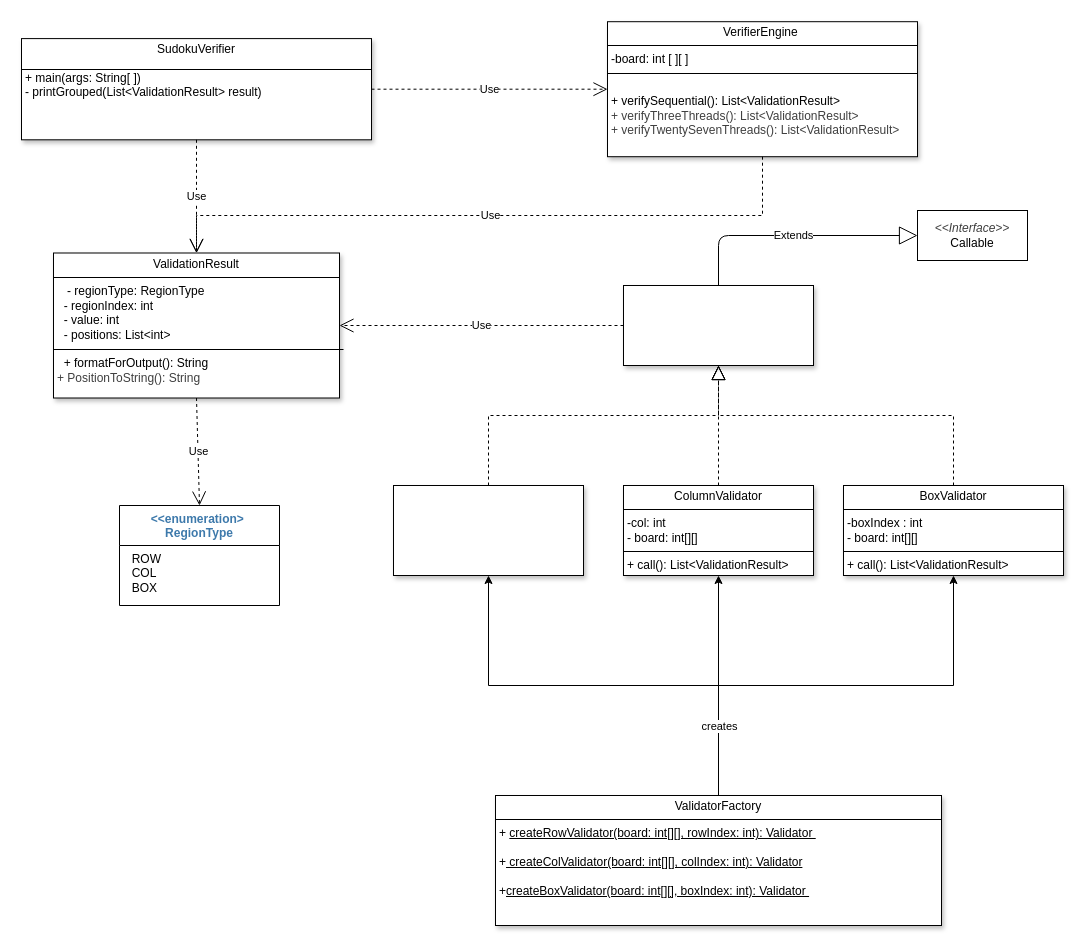
Image size: 1087x950. Some labels were removed from this diagram. The centre of each missing label's shape, as x and y in pixels:
<<Interface>> Validator + Call(): List<ValidationResult>: point (719, 326)
RowValidator -row : int - board: int[][] + call(): List<ValidationResult>: point (489, 531)
